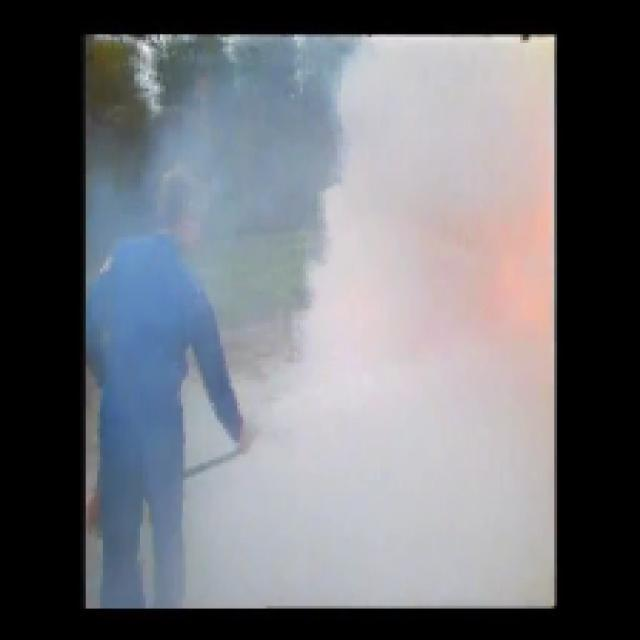Smoke: (334, 54, 557, 609)
